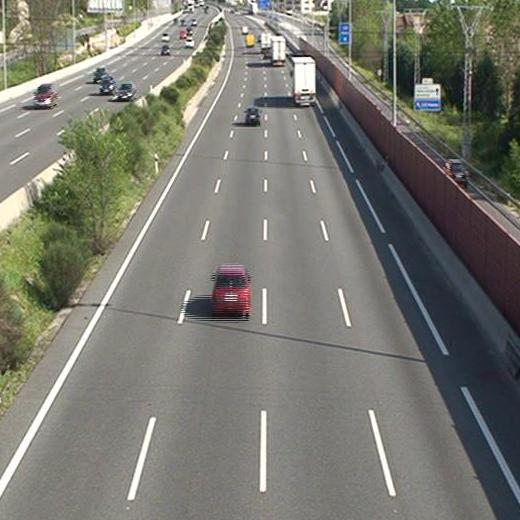car: (212, 267, 250, 314), (245, 108, 260, 124)
truck: (292, 56, 316, 105), (271, 35, 285, 65), (261, 32, 271, 49)
van: (245, 35, 254, 47)
